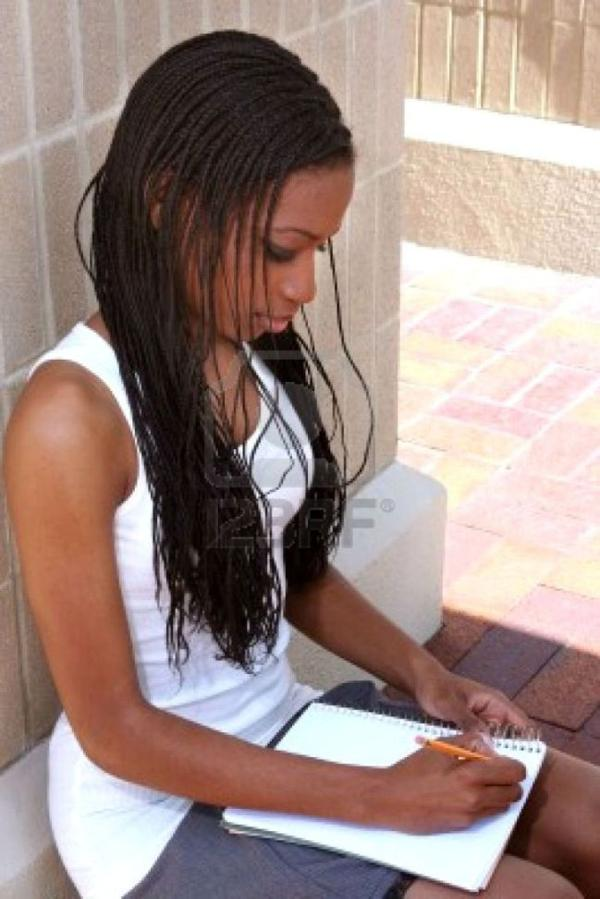person: (8, 28, 600, 898)
